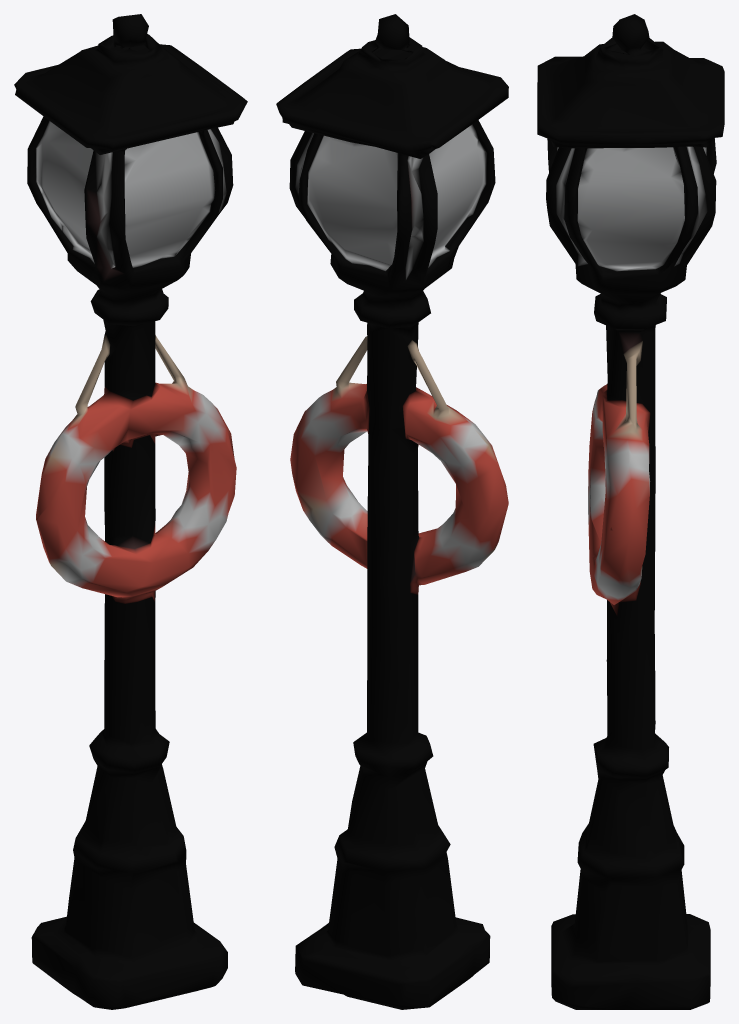
Rendered from gen3d-pier-lamp-lod0.glb.
3 views of the same model, side by side, from view 1: azimuth 30°, elevation 25°; view 2: azimuth 150°, elevation 25°; view 3: azimuth 270°, elevation 25° (orthographic).
Parts seen in each view (by area): view 1: part_0; view 2: part_0; view 3: part_0.
Boxes of the visible parts, x1,y1,x2,y2 form: part_0: (14, 14, 247, 1009); part_0: (276, 14, 508, 1009); part_0: (537, 14, 724, 1009).
Bounding box in the file's own units: 0.2277 × 0.9975 × 0.1766.
